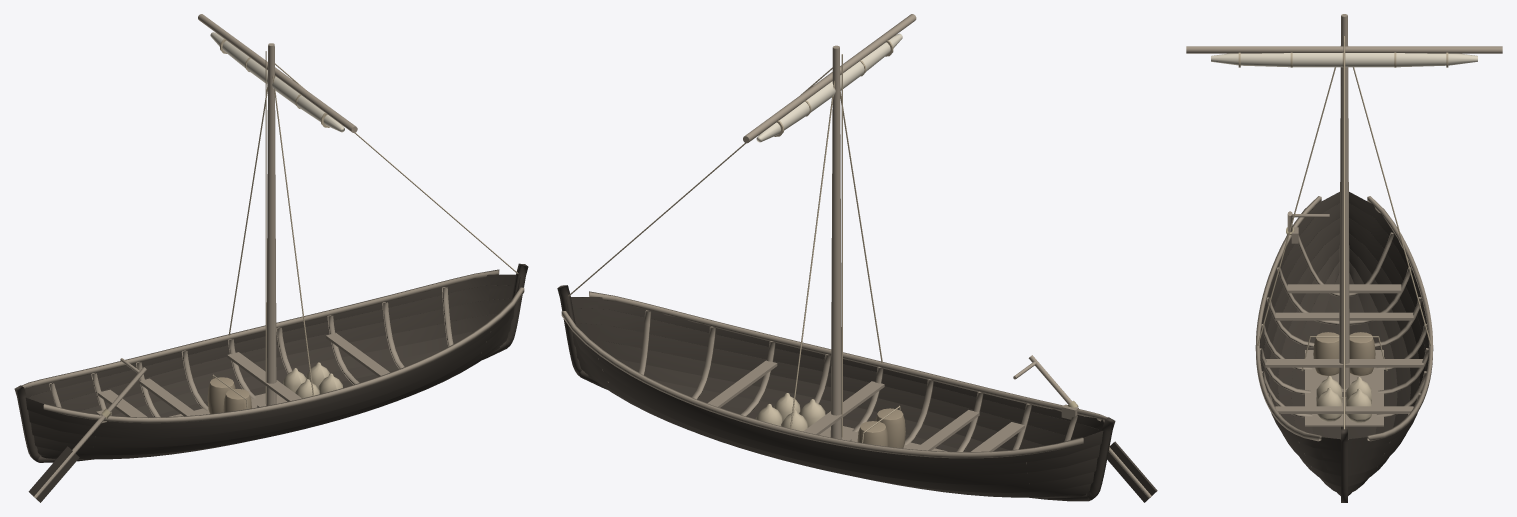
Rendered from river-boat.glb.
3 renders of one model, left to right at view 1: azimuth 30°, elevation 25°; view 2: azimuth 150°, elevation 25°; view 3: azimuth 270°, elevation 25°, orthographic. The views are drawn at different scales.
Parts seen in each view (by area): view 1: tar, oak, mast, sail-furled, yard, steering-oar-blade, thwart-mast, steering-oar-loom, thwart-fore, halyard, cask-02, thwart-aft (+1 smaller); view 2: tar, oak, mast, sail-furled, yard, thwart-mast, steering-oar-blade, thwart-fore, cask-01, thwart-aft, halyard, shroud-port; view 3: tar, oak, sail-furled, mast, yard, bottom-boards, thwart-mast, forestay, thwart-aft, thwart-fore, thwart-stern, cask-01 (+5 smaller).
Boxes of the visible parts, bbox=[...] form: tar: bbox=[14, 263, 528, 462]; oak: bbox=[21, 269, 524, 436]; mast: bbox=[266, 43, 276, 405]; sail-furled: bbox=[210, 32, 344, 132]; yard: bbox=[198, 14, 357, 132]; steering-oar-blade: bbox=[28, 446, 79, 502]; thwart-mast: bbox=[227, 352, 301, 401]; steering-oar-loom: bbox=[33, 367, 146, 498]; thwart-fore: bbox=[326, 333, 389, 376]; halyard: bbox=[265, 51, 266, 403]; cask-02: bbox=[207, 377, 235, 413]; thwart-aft: bbox=[139, 378, 199, 416]; tar: bbox=[557, 285, 1115, 501]; oak: bbox=[561, 291, 1107, 483]; mast: bbox=[830, 45, 841, 439]; sail-furled: bbox=[756, 33, 902, 142]; yard: bbox=[743, 14, 916, 143]; thwart-mast: bbox=[803, 381, 884, 434]; steering-oar-blade: bbox=[1107, 441, 1157, 502]; thwart-fore: bbox=[707, 360, 777, 407]; cask-01: bbox=[875, 408, 905, 448]; thwart-aft: bbox=[914, 410, 979, 450]; halyard: bbox=[841, 54, 842, 437]; shroud-port: bbox=[790, 80, 834, 429]; tar: bbox=[1259, 192, 1429, 502]; oak: bbox=[1255, 196, 1433, 466]; sail-furled: bbox=[1211, 53, 1477, 67]; mast: bbox=[1339, 14, 1349, 388]; yard: bbox=[1186, 46, 1502, 53]; bottom-boards: bbox=[1305, 350, 1383, 426]; thwart-mast: bbox=[1265, 359, 1423, 367]; forestay: bbox=[1343, 36, 1345, 429]; thwart-aft: bbox=[1275, 312, 1413, 320]; thwart-fore: bbox=[1275, 406, 1413, 413]; thwart-stern: bbox=[1287, 284, 1401, 293]; cask-01: bbox=[1313, 332, 1339, 375].
Bounding box in the file's own units: 12.6 × 8.63 × 6.4.
